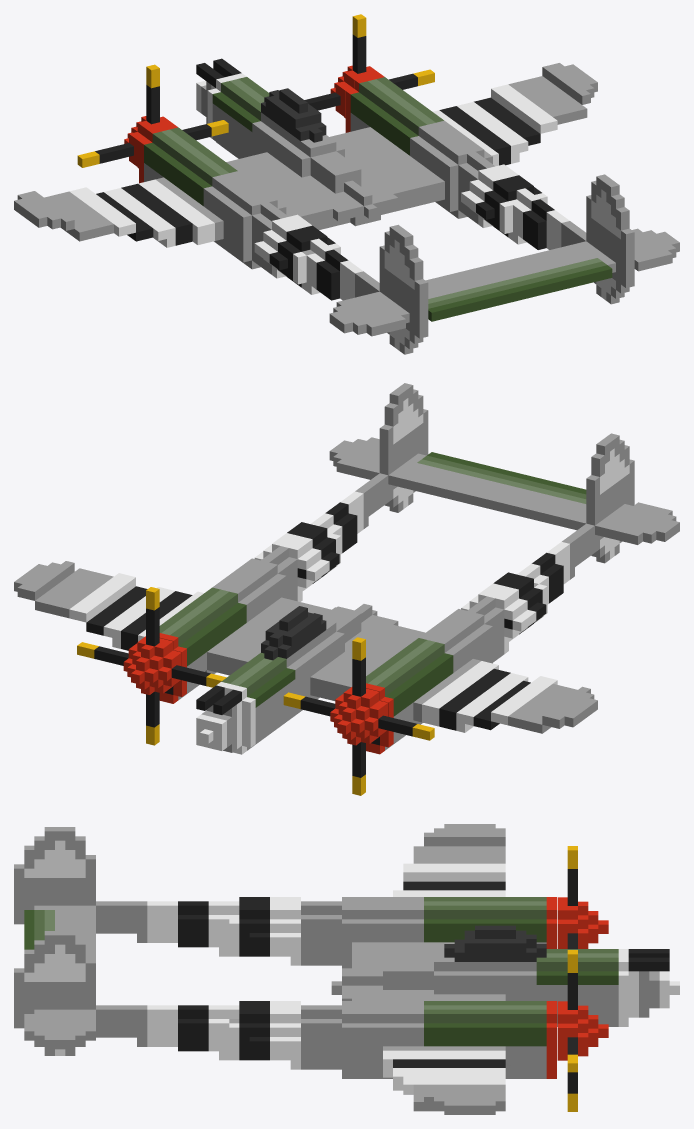
The model's file is completeP38.glb.
3 views of the same model, one above another, from view 1: azimuth 30°, elevation 25°; view 2: azimuth 150°, elevation 25°; view 3: azimuth 270°, elevation 25° (orthographic). The views are drawn at different scales.
Visible parts, largest first — view 1: p38, prop_right, prop_left; view 2: p38, prop_right, prop_left; view 3: p38, prop_left, prop_right.
Part boxes in pixels (<box>): p38: <box>14,58,679,354</box>; prop_right: <box>77,64,228,168</box>; prop_left: <box>304,14,434,118</box>; p38: <box>14,383,679,754</box>; prop_right: <box>283,637,434,795</box>; prop_left: <box>77,587,226,745</box>; p38: <box>14,824,679,1114</box>; prop_left: <box>557,950,608,1111</box>; prop_right: <box>557,846,608,948</box>.
Bounding box in the file's own units: 6.5 × 1.9 × 6.5.
3 materials, 3 textured.
